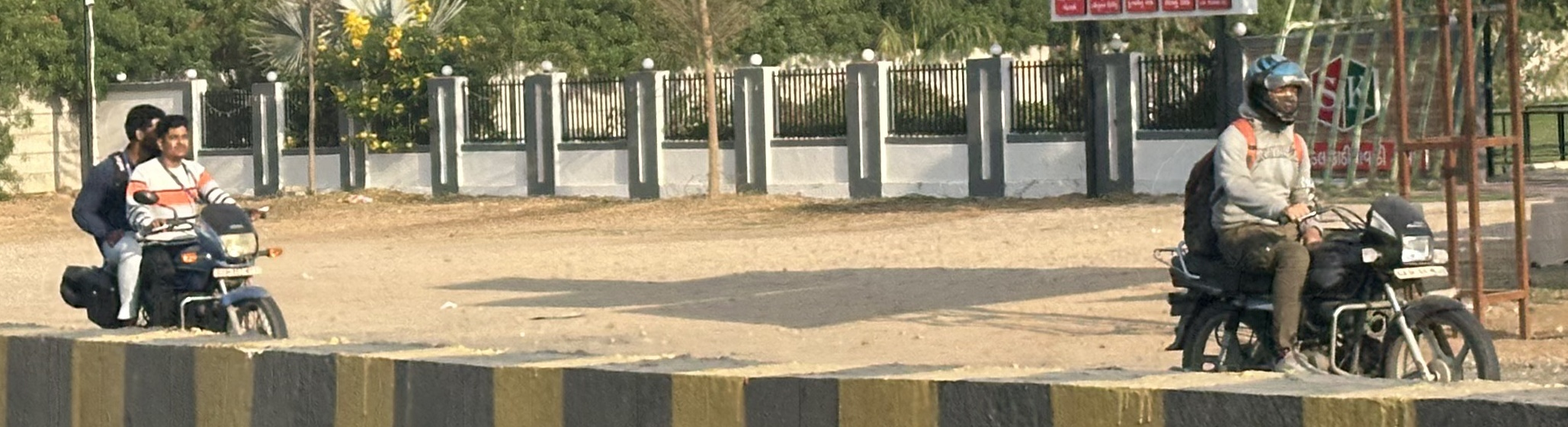BikeWithRider: (1137, 37, 1568, 400), (62, 80, 308, 347)
Helmet: (1254, 61, 1313, 119)
NoHelmet: (114, 101, 166, 160), (157, 119, 200, 169)
